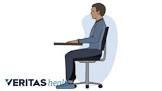good-pose: (0, 0, 162, 91)
